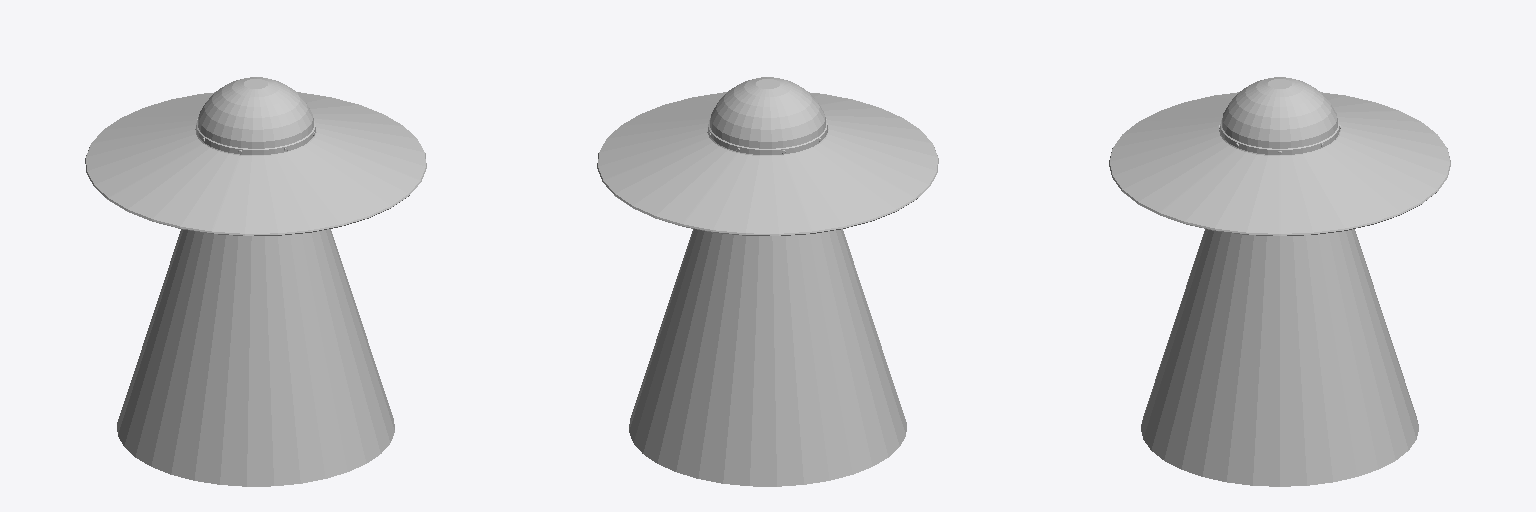
Rendered from ufo_basic_beam.sgm.obj.
3 renders of one model, left to right at view 1: azimuth 30°, elevation 25°; view 2: azimuth 150°, elevation 25°; view 3: azimuth 270°, elevation 25°, orthographic.
Size of the model in its own units: 0.7979 by 0.885 by 0.7979.